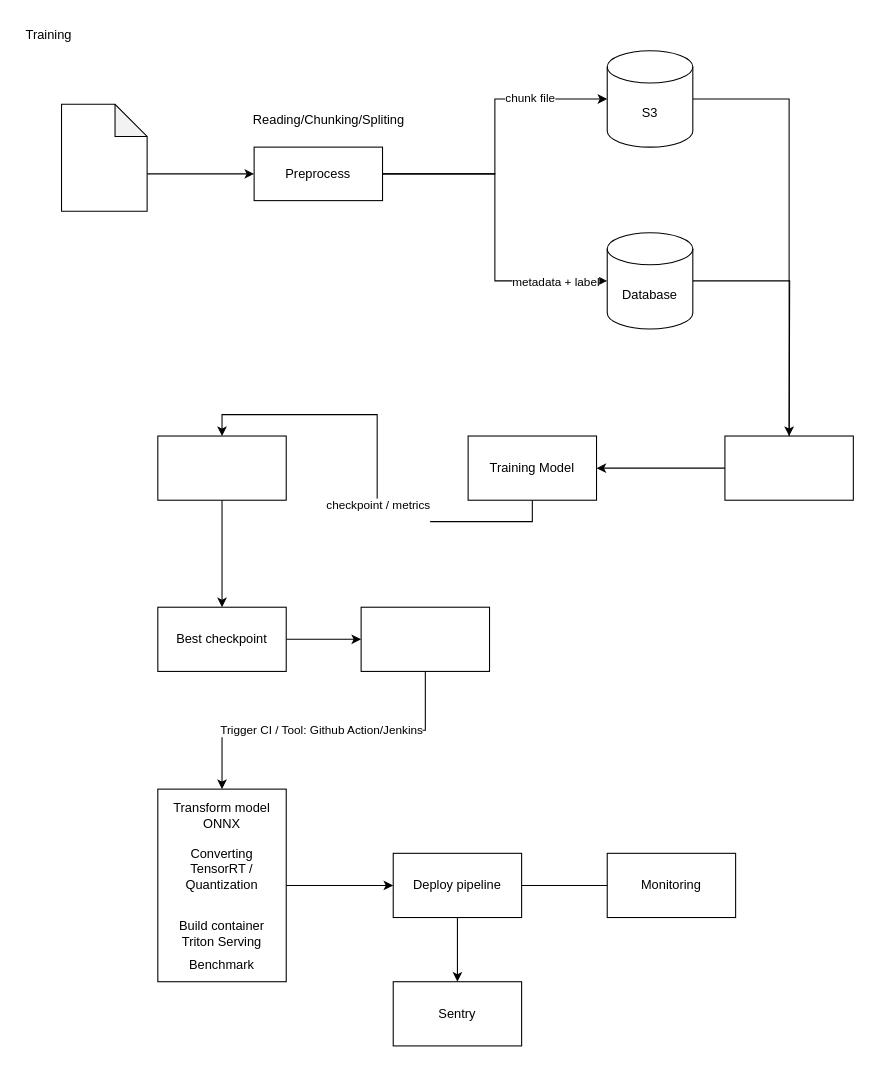
Some shapes in this 872 by 1065 pixel diagram are drawn without their labels. Each missing label, with the centre of its shape:
"Collect Data" belongs at point (788, 467).
"Documents" belongs at point (103, 157).
"Tracking MLFlow" belongs at point (221, 467).
"Update infra-sering repo (Github)" belongs at point (425, 638).
